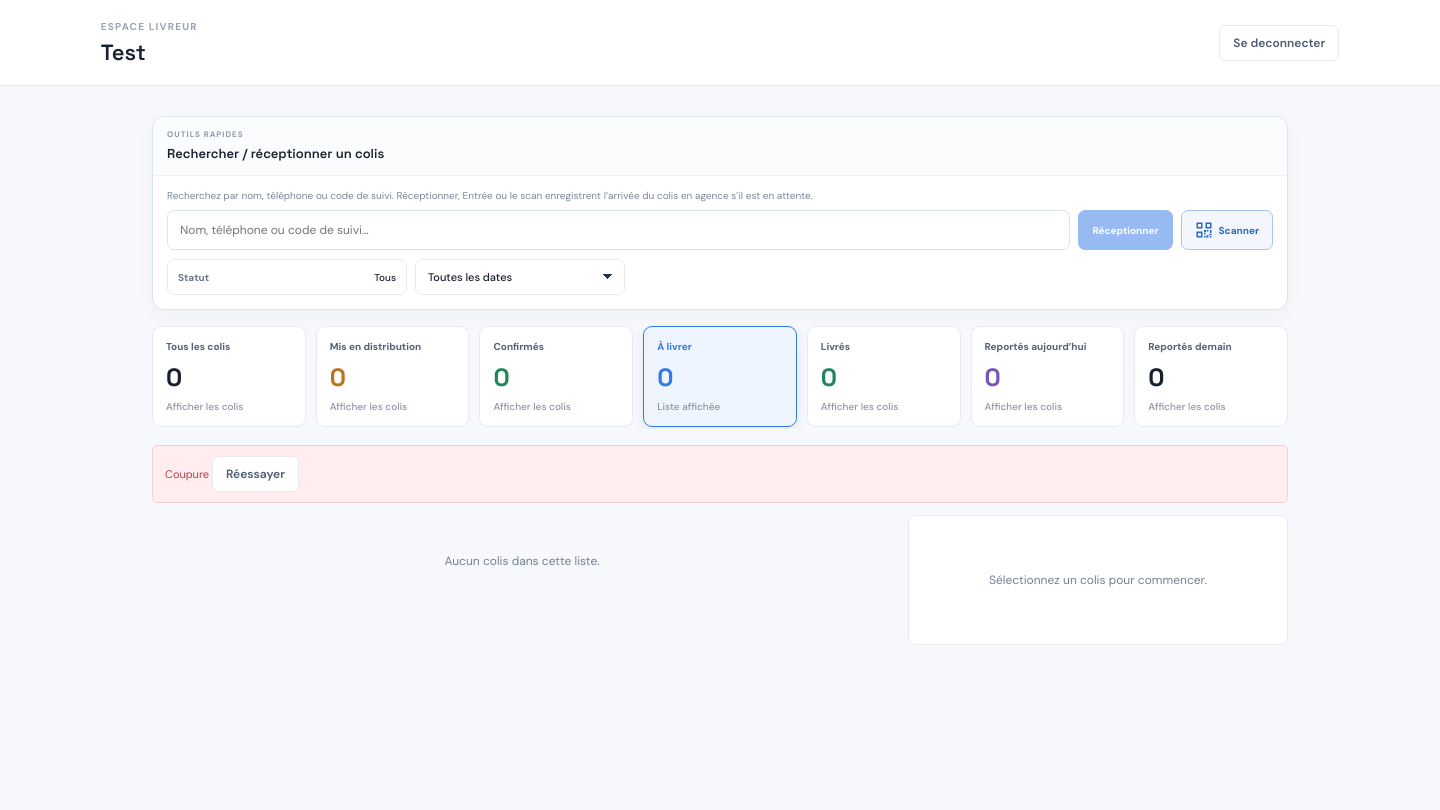
keeps a failed refresh retryable when the initial request is still pending
This screenshot has width=1440, height=810.
Click the button "Réessayer". click: (256, 474)
box: 212,456 -> 299,492
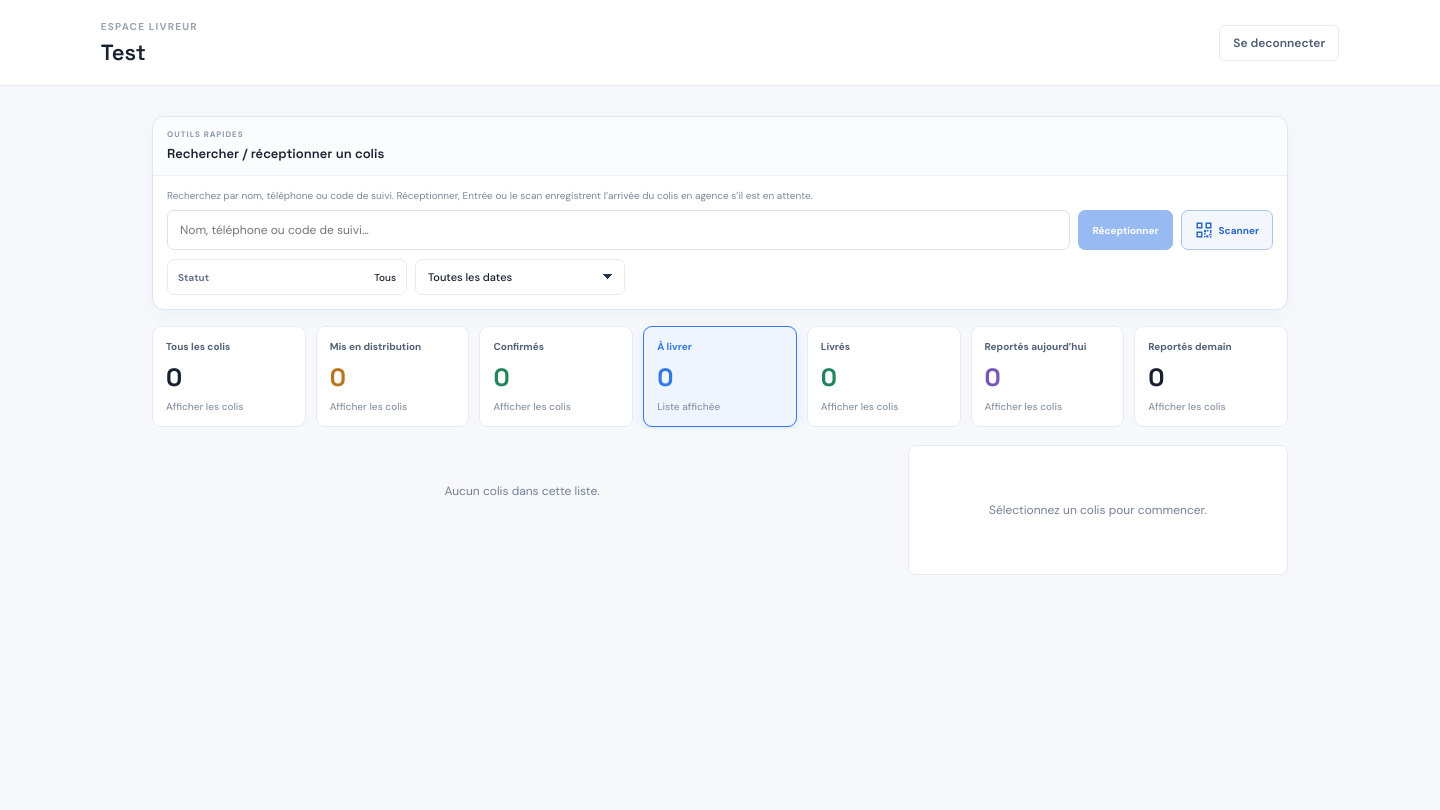
Expected: the message "Coupure Réessayer" is gone
